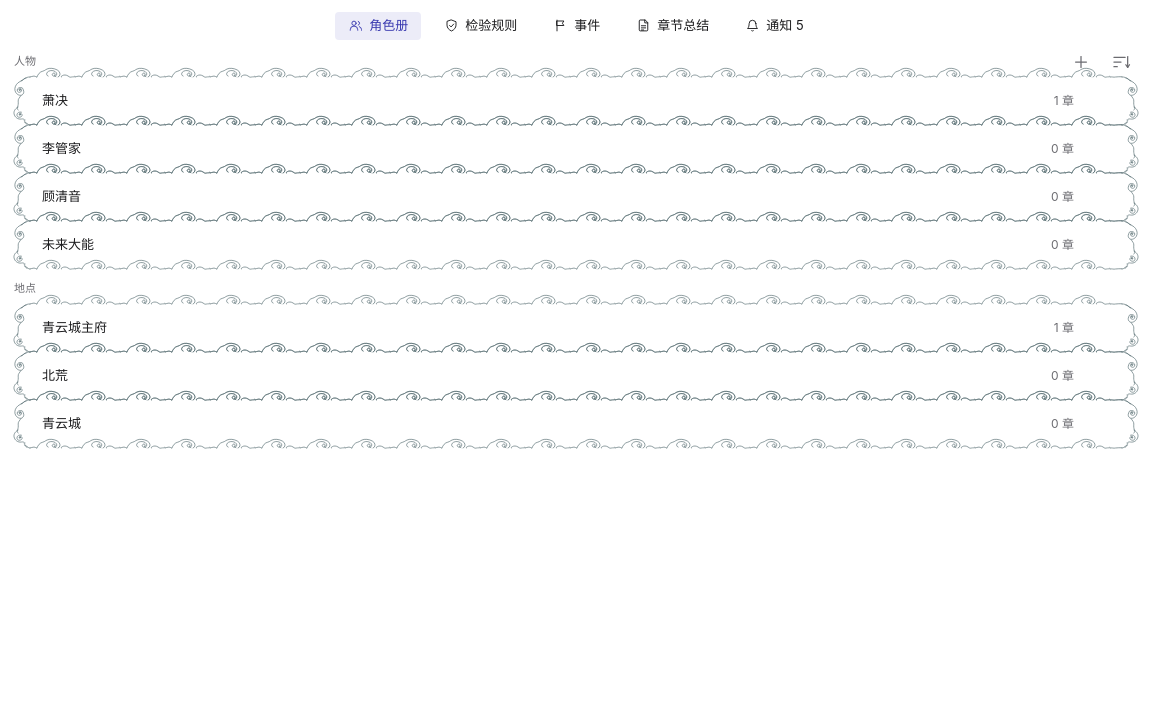
右侧信息区 › 检查面板不显示规则编号或内部字段
The width and height of the screenshot is (1152, 720).
Click the button "检验规则". click: click(481, 26)
box: [431,12,530,40]
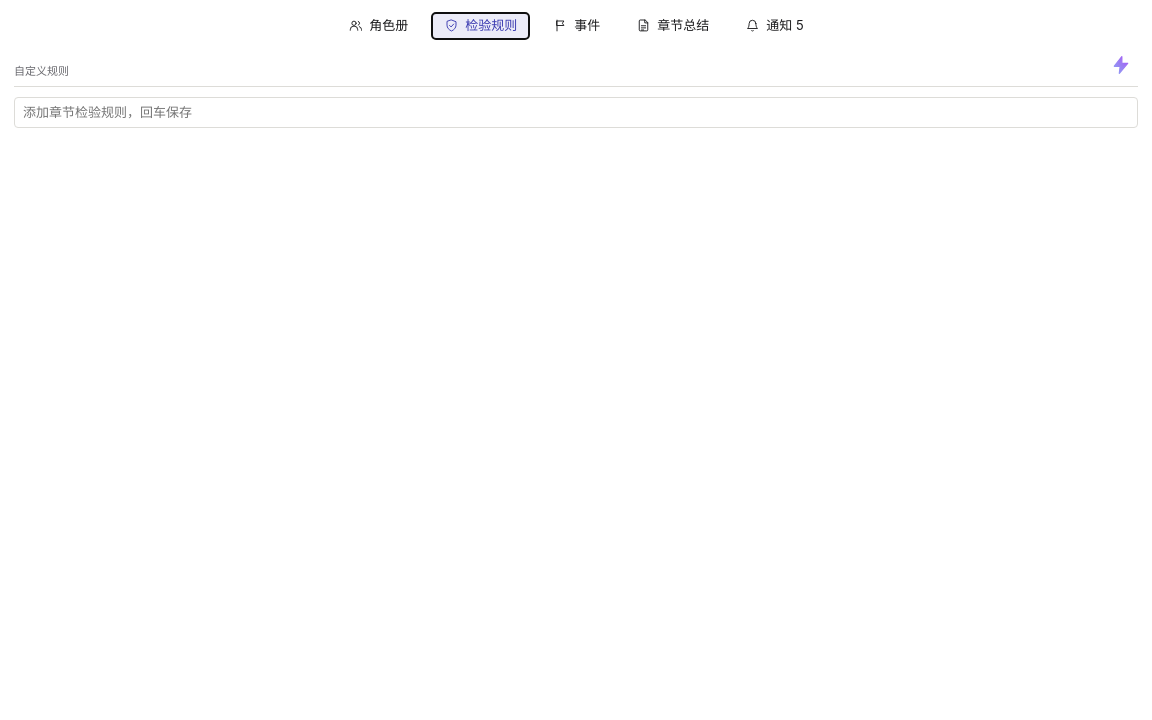
Click the button named "快速检验本章". click: click(1121, 64)
box: [1104,50,1138,80]
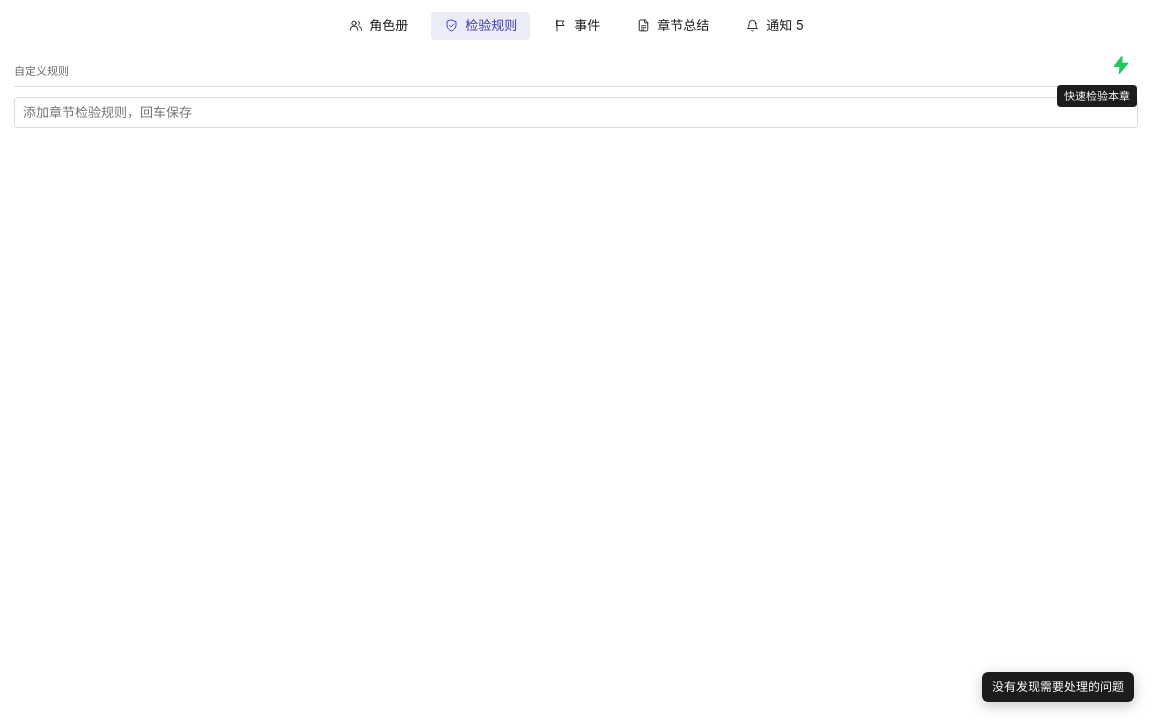
Expected: the text "没有发现需要处理的问题" is shown, [982,672,1134,702]
